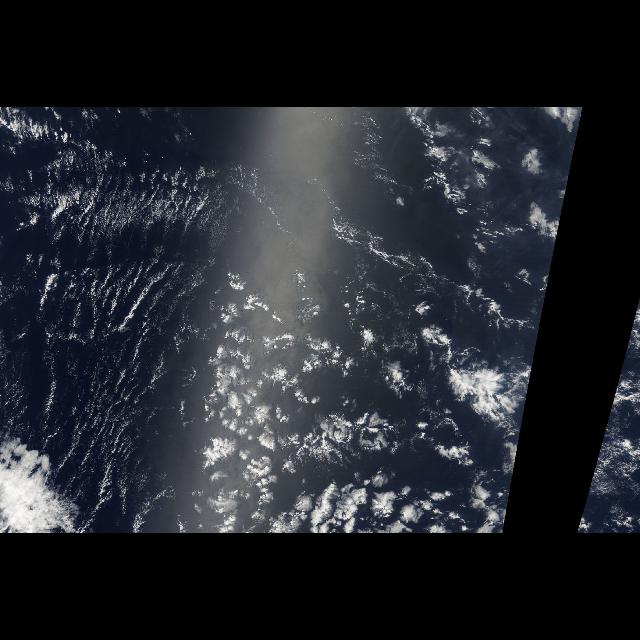Flower: (189, 276, 516, 476)
Sugar: (1, 112, 450, 524)
